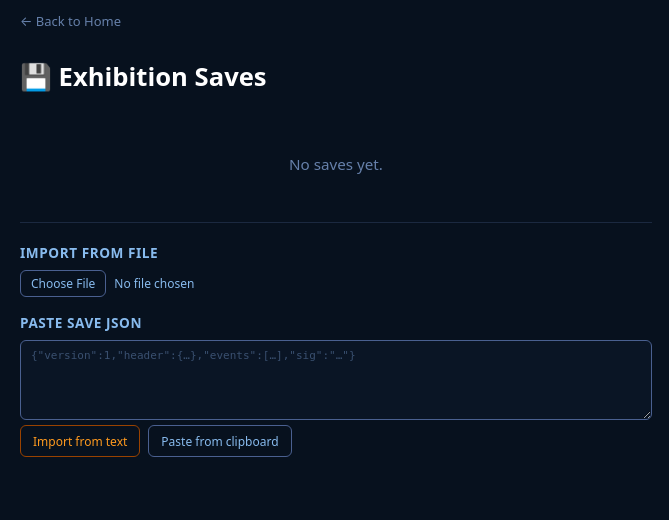
Test: SavesPage › shows error when paste-save-button clicked with empty textarea
This screenshot has width=669, height=520.
Click the button with test id "paste-save-button" at (80, 441), box [20, 425, 140, 457]
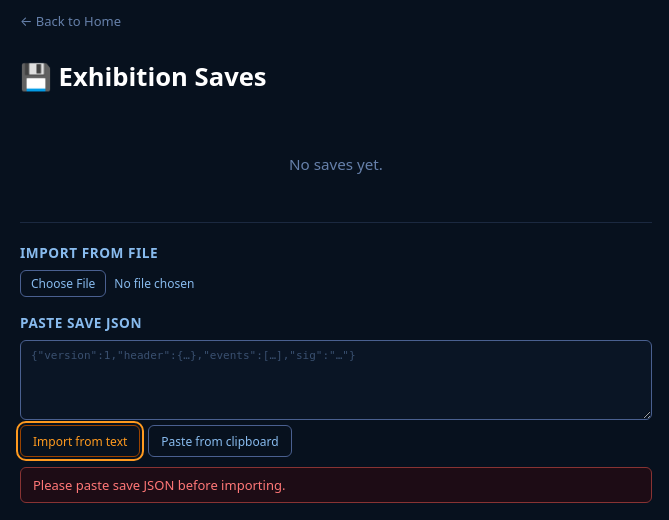
Now the text "Please paste save JSON before importing." is shown, box [20, 467, 652, 503]
